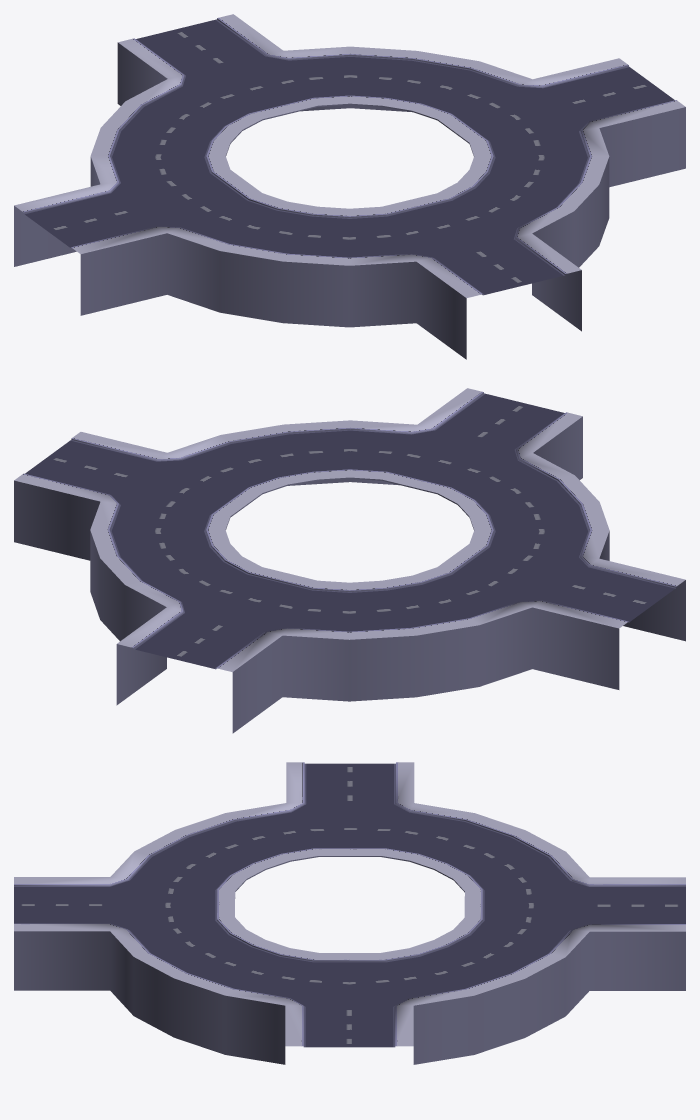
3 renders of one model, top to bottom at view 1: azimuth 30°, elevation 25°; view 2: azimuth 150°, elevation 25°; view 3: azimuth 270°, elevation 25°, orthographic. The views are drawn at different scales.
Parts seen in each view (by area): view 1: Circle_1; view 2: Circle_1; view 3: Circle_1.
Part boxes in pixels (x1=…): Circle_1: x1=14, y1=14, x2=685, y2=359; Circle_1: x1=14, y1=388, x2=685, y2=733; Circle_1: x1=14, y1=762, x2=685, y2=1064.
Size of the model in its own units: 105 by 10.2 by 105.
Materials: 1 (1 with a texture image).
